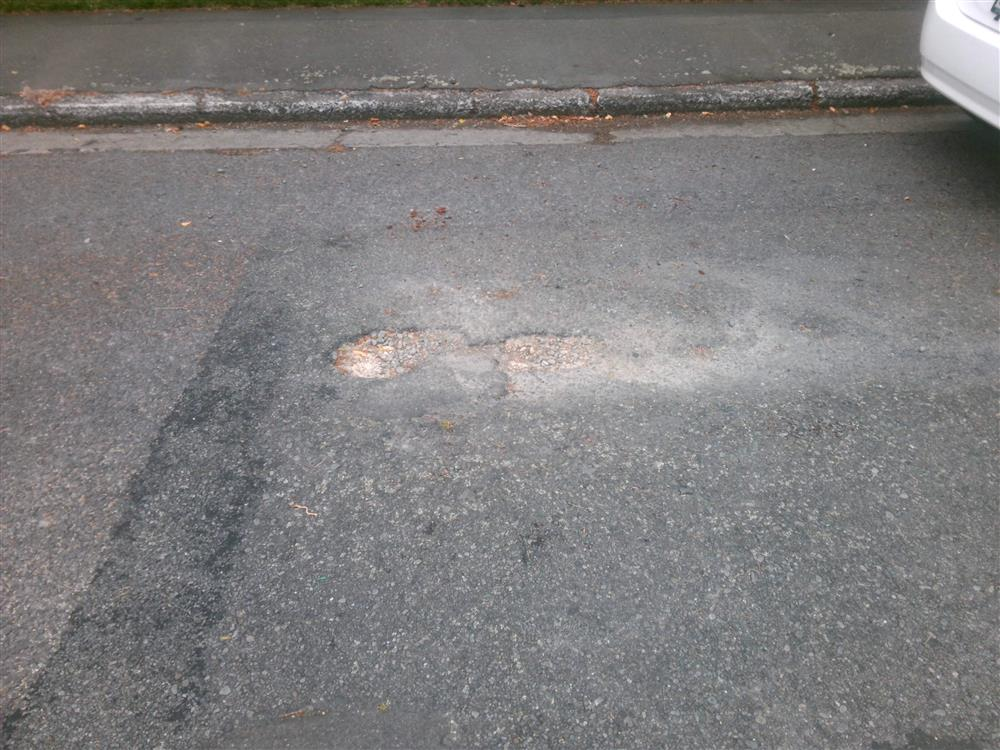pothole: (314, 321, 610, 393)
